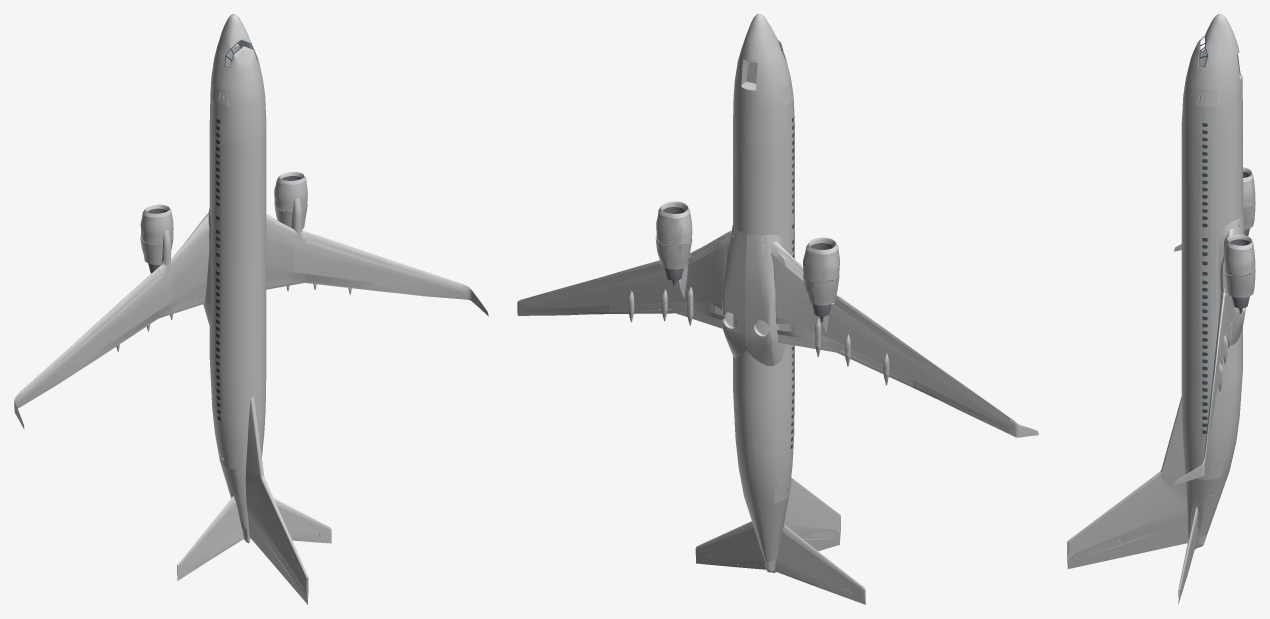
The picture shows the model from 3 angles, left to right: view 1: azimuth 30°, elevation 25°; view 2: azimuth 150°, elevation 25°; view 3: azimuth 270°, elevation 25°; orthographic projection. The views are drawn at different scales.
Parts seen in each view (by area): view 1: B738; view 2: B738; view 3: B738.
Boxes of the visible parts, <box> form: B738: <box>14,14,488,604</box>; B738: <box>517,14,1038,604</box>; B738: <box>1067,14,1255,604</box>.
Bounding box in the file's own units: 35.74 × 39.47 × 12.13.
